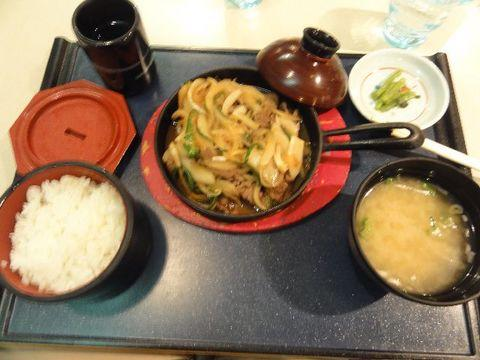rice: (9, 175, 126, 293)
